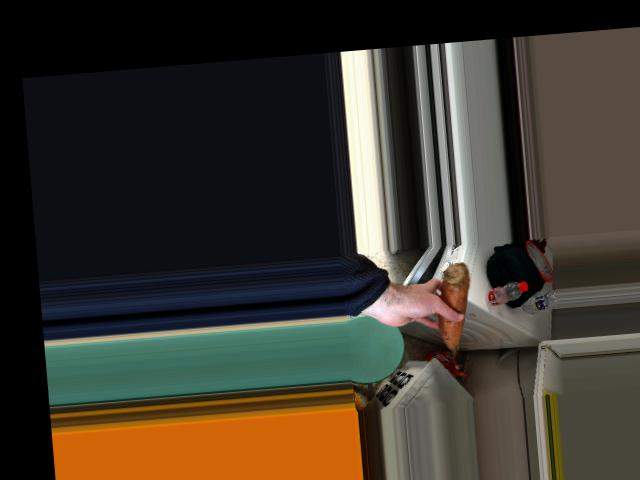sweet_potato: (437, 262, 468, 354)
